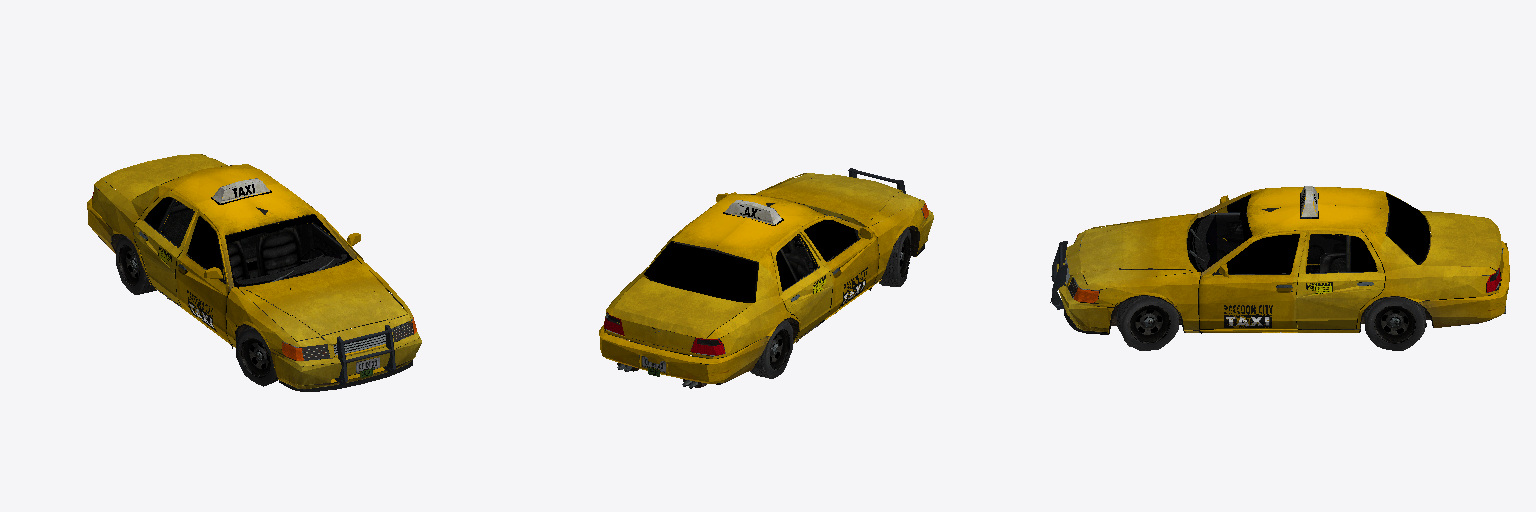
3 views of the same model, side by side, from view 1: azimuth 30°, elevation 25°; view 2: azimuth 150°, elevation 25°; view 3: azimuth 270°, elevation 25° (orthographic).
Parts seen in each view (by area): view 1: taxi; view 2: taxi; view 3: taxi.
Part boxes in pixels (x1,y1,x2,y2): taxi: (87,154,421,391); taxi: (599,168,933,388); taxi: (1050,186,1509,350).
Bounding box in the file's own units: 2.23 × 1.72 × 5.68.
Materials: 10 (8 with a texture image).